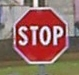stop: (12, 5, 68, 65)
